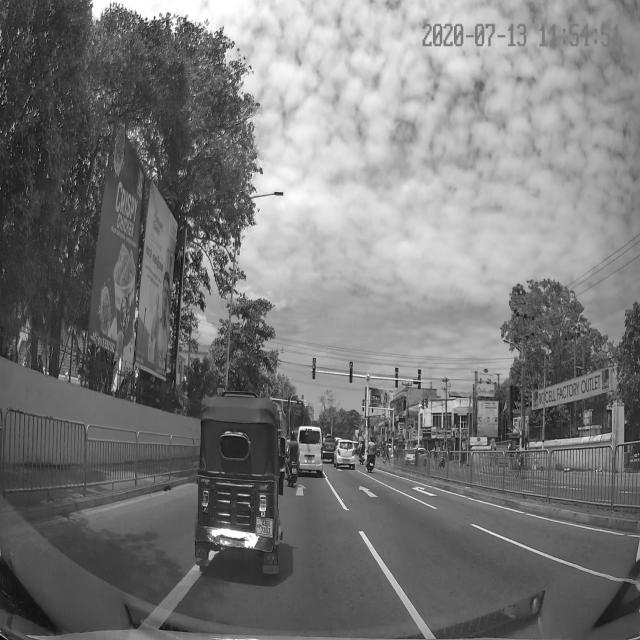diamond: (277, 478, 350, 509)
